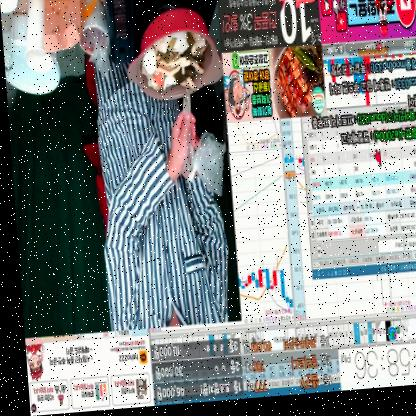streamer: (88, 36, 229, 332)
